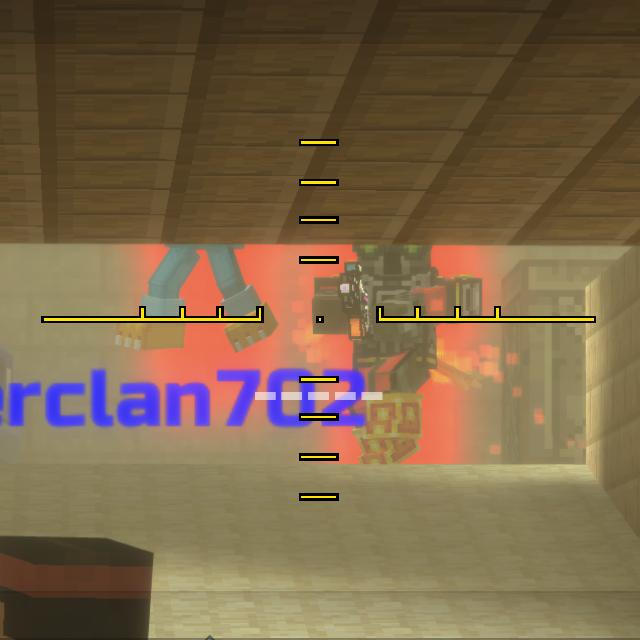Enemy: (308, 241, 486, 463)
